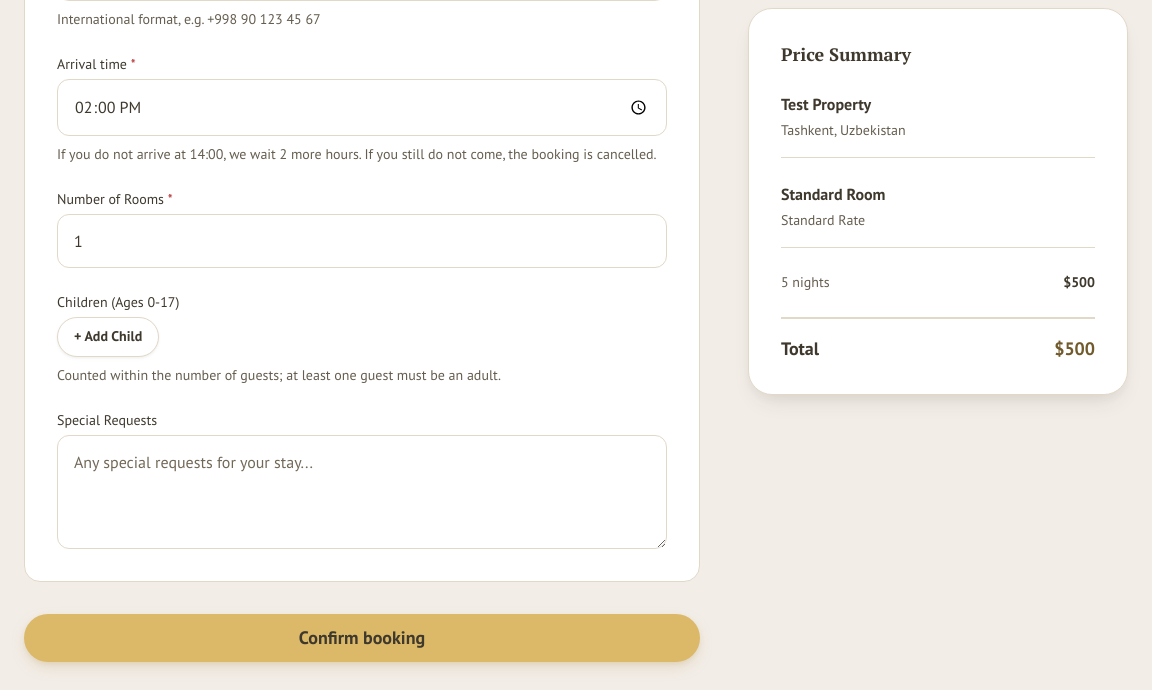
Scenario: BookingPage › Guest details form › keeps at least one adult: children stop one short of the guest count
This screenshot has width=1152, height=690.
(page scrolled)
Expected: the text "Counted within the number of guests; at least one guest must be an adult." is shown, [57,366,501,384]
Click the button "+ Add Child" at (108, 337), box [57,317,159,357]
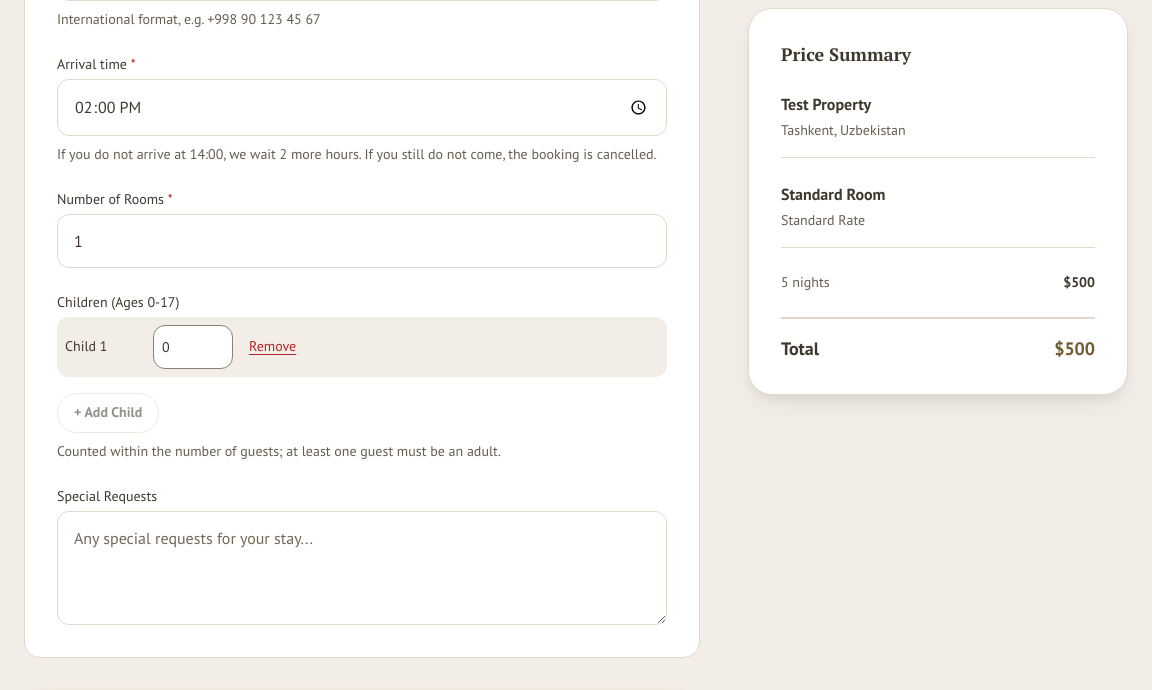
Now the number field labelled "Child 1" is shown, box [153,325,233,369]
Now the button "+ Add Child" is disabled, box [57,393,159,433]
